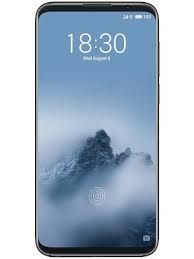meizu: (32, 1, 162, 258)
